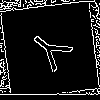Y: (25, 25, 81, 79)
